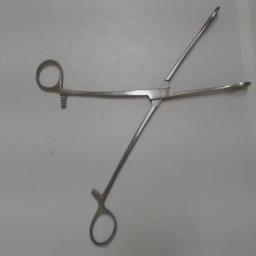Sponge Forceps: (32, 1, 254, 251)
